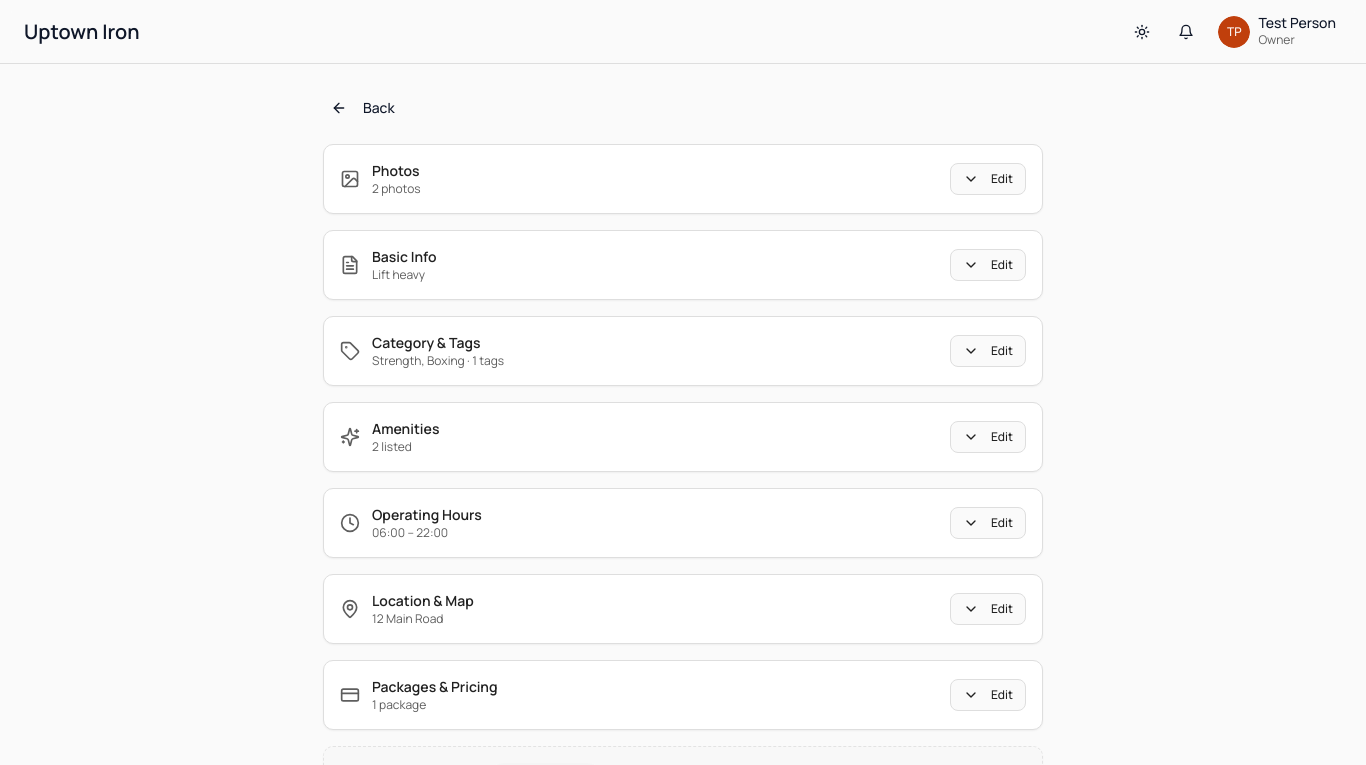
Listing editor: Basic Info › shows the server message, not a generic one, when the save is refused
Click the button "Edit" in the row of "Basic Info": (988, 265) [950,249,1026,281]
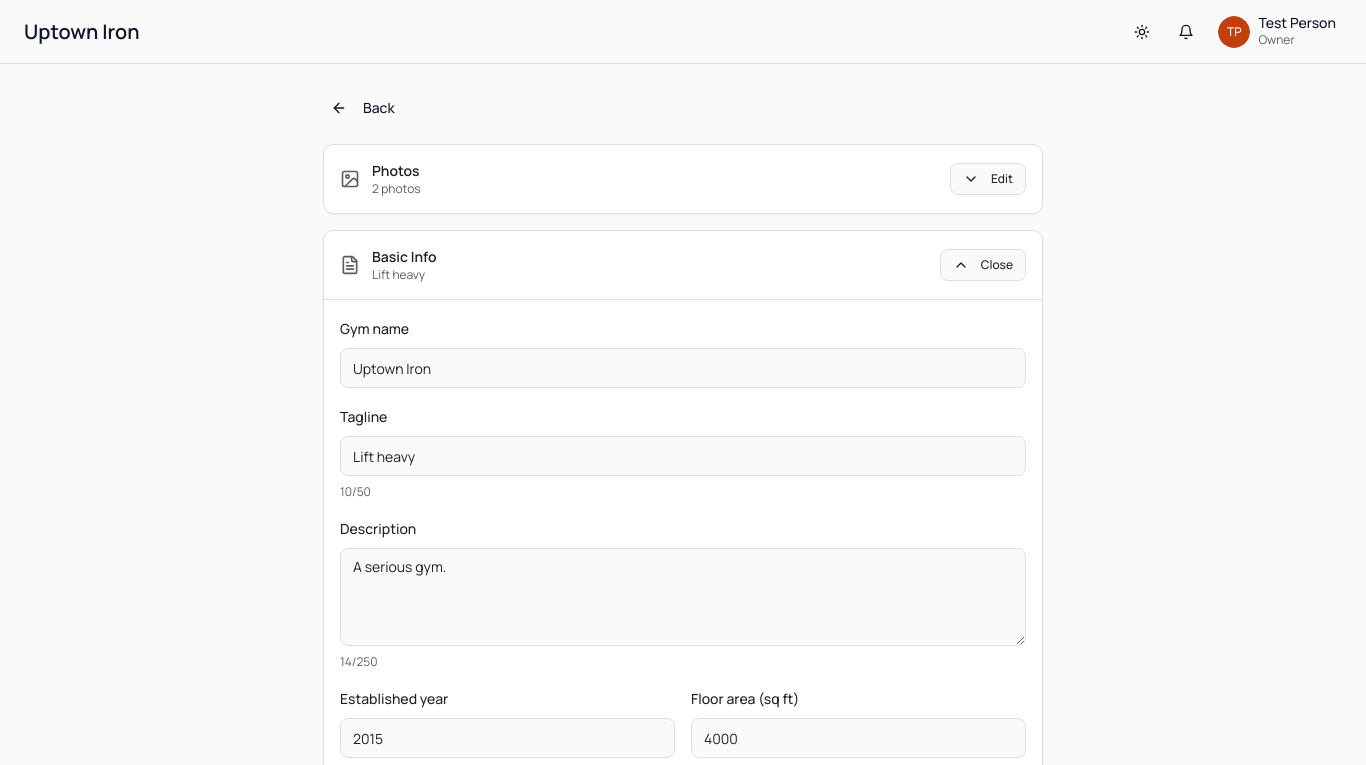
Replace the text in the field labelled "Tagline" with "New line": (683, 456) [340,436,1026,476]
(page scrolled)
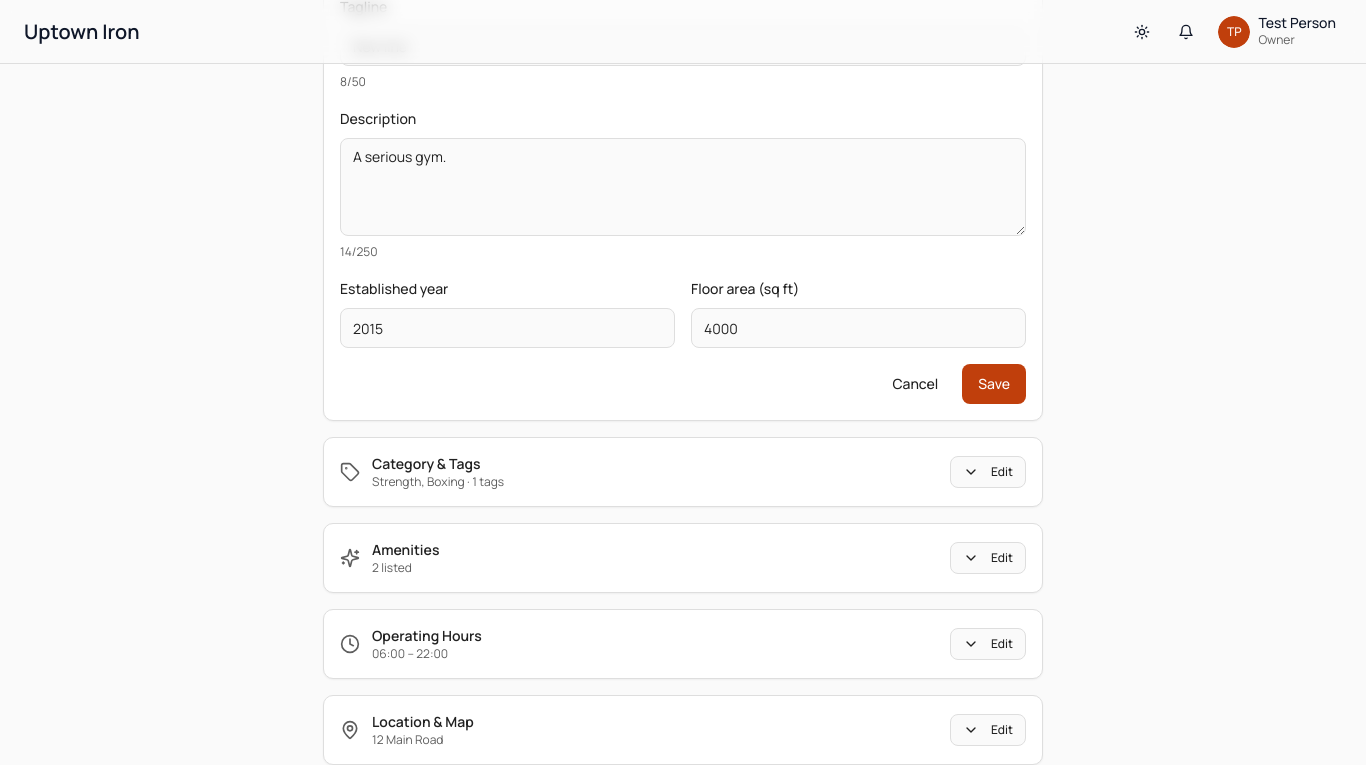
Click the button "Save": (994, 384) [962,364,1026,404]
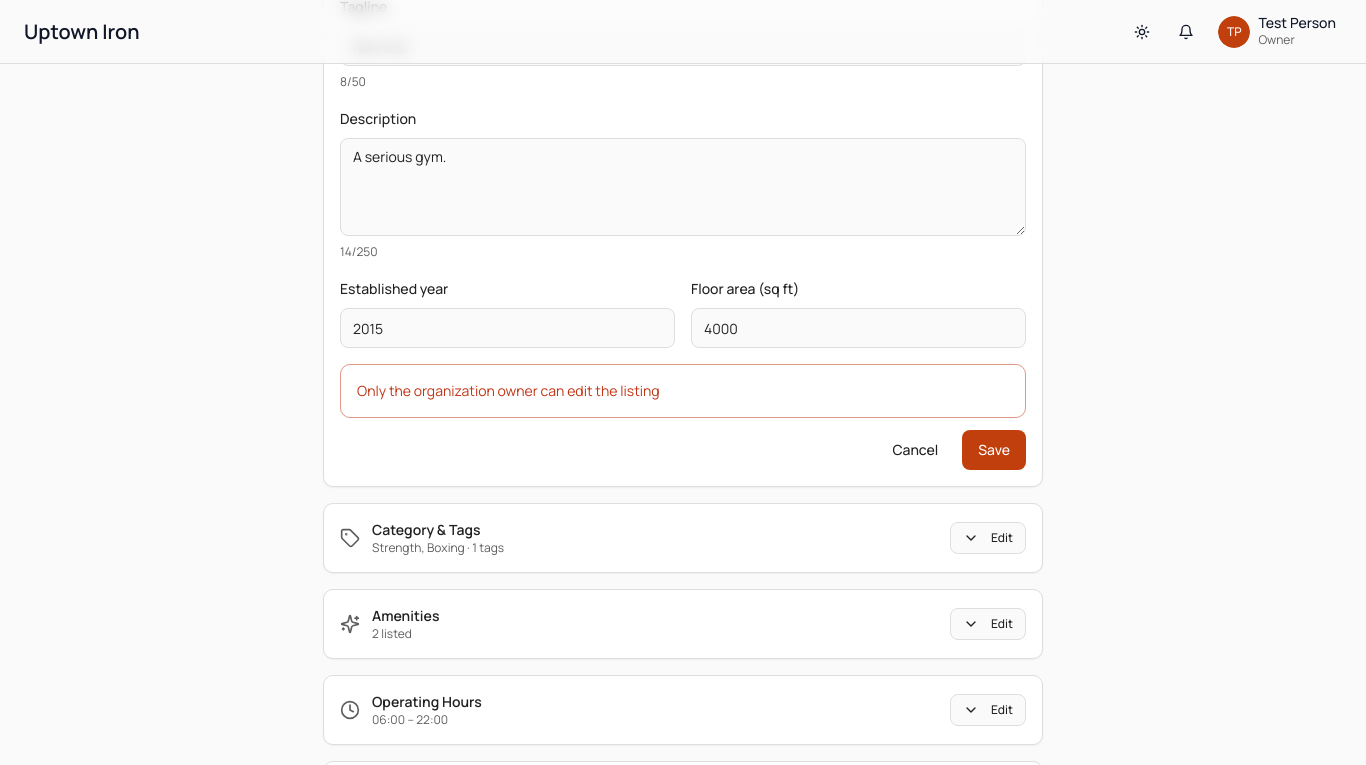
Expected: the message with test id "save-error" reads "Only the organization owner can edit the listing", [357,381,660,400]
